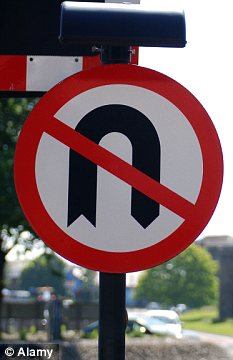No_u_turn: (13, 63, 224, 271)
